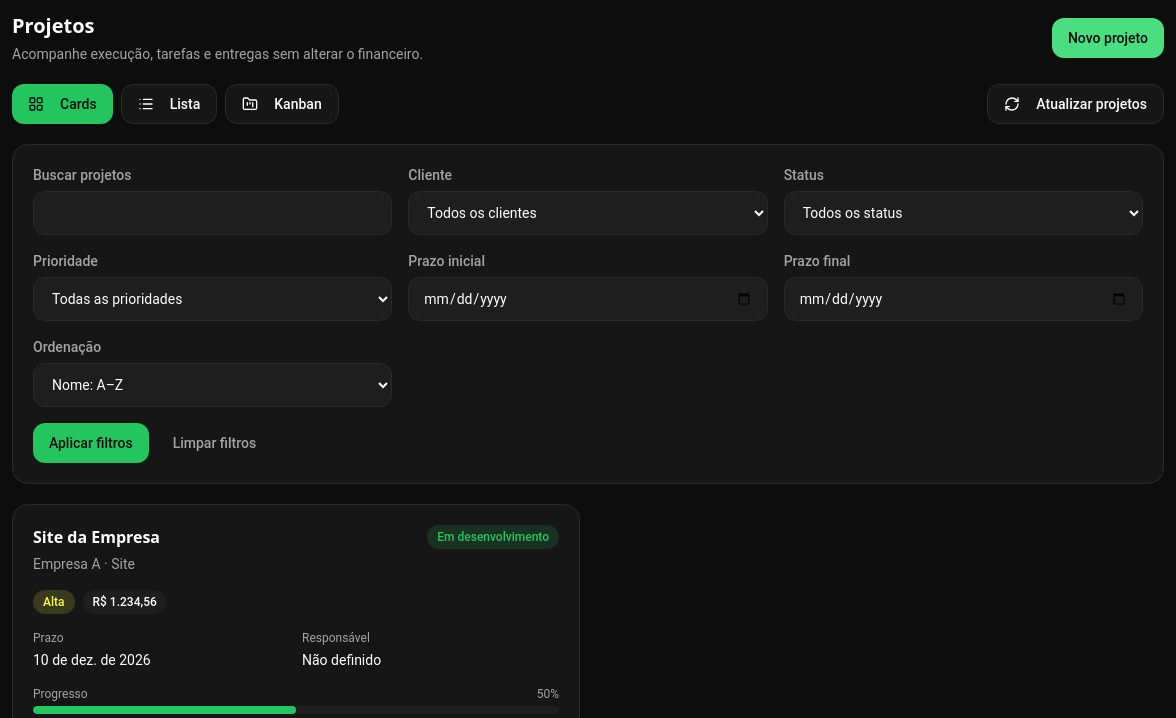
Test: ProjectsPage › preserva a lista válida e permite retry quando o refresh falha
The image size is (1176, 718).
Expected: the link "Site da Empresa" is shown, [33, 526, 160, 548]
Click the button "Atualizar projetos" at {"x": 1076, "y": 104}, box [987, 84, 1164, 124]
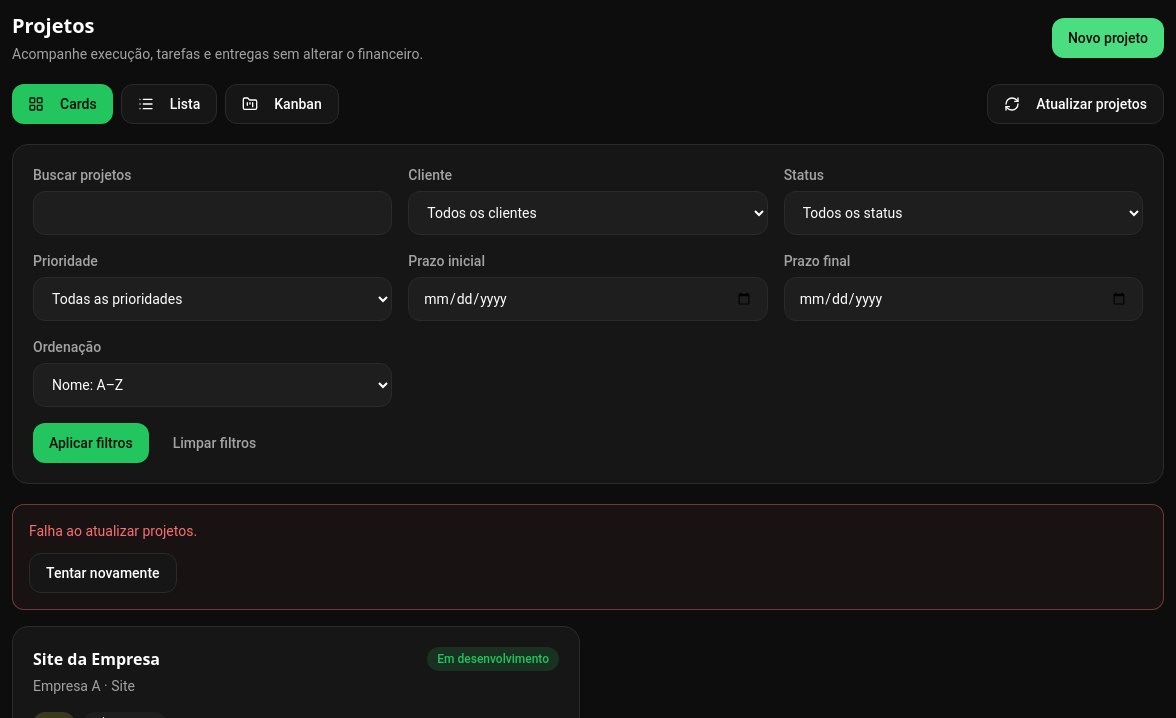
Expected: the link "Site da Empresa" is shown, [33, 648, 160, 670]
Result: the text "Falha ao atualizar projetos." is shown at [29, 523, 197, 539]
Click the button "Tentar novamente" at {"x": 103, "y": 573}, box [29, 553, 177, 593]
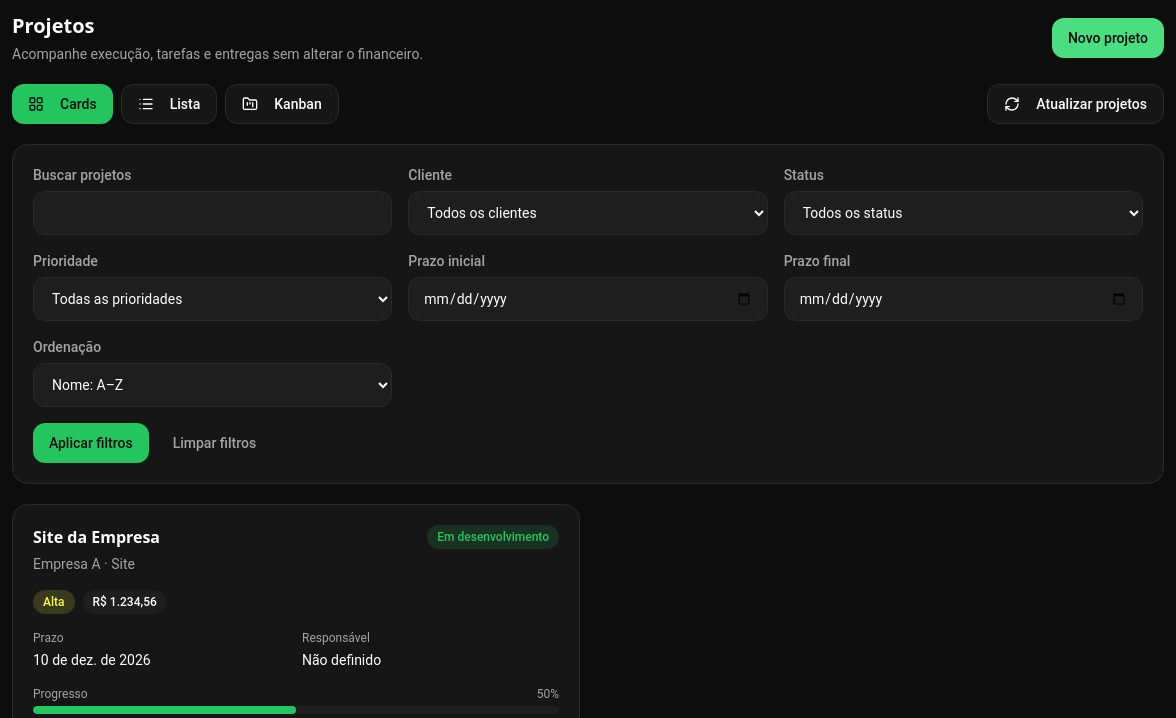
Result: the message "Falha ao atualizar projetos. Tentar novamente" is gone
